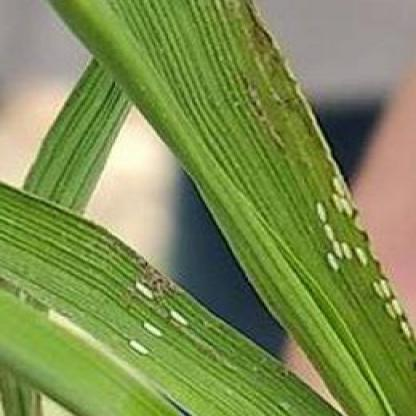whorl-maggot: (166, 302, 196, 334), (132, 274, 158, 307), (136, 320, 170, 344), (126, 336, 156, 361), (311, 192, 328, 226), (376, 298, 398, 324), (324, 247, 340, 276), (334, 174, 351, 198), (368, 279, 387, 300), (343, 242, 359, 266), (356, 244, 370, 270), (398, 319, 415, 339), (322, 226, 340, 240)
